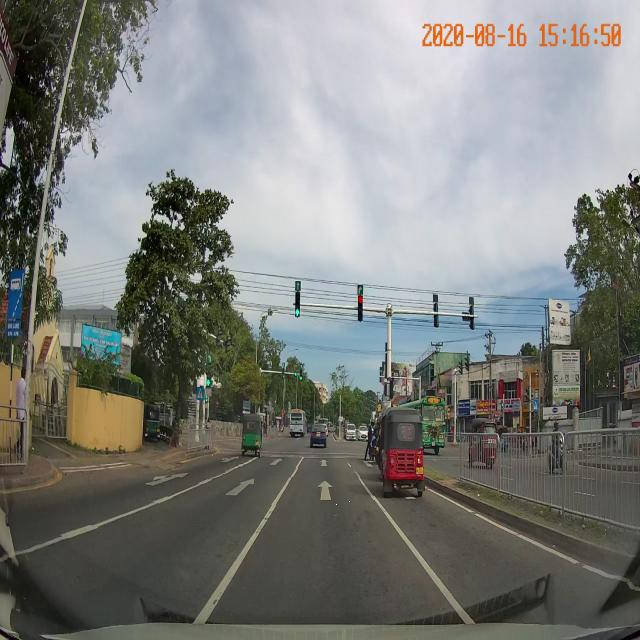forward: (269, 477, 374, 505), (294, 457, 353, 468)
